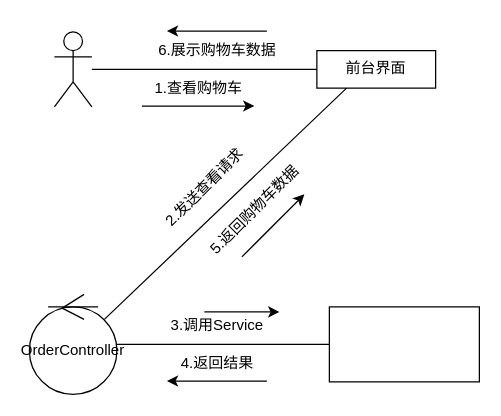
Image size: 501x416. Some labels were removed from this diagram. Each missing label, with the centre of its shape:
"Actor" goes at (72,69).
"OrderService" goes at (403,344).
